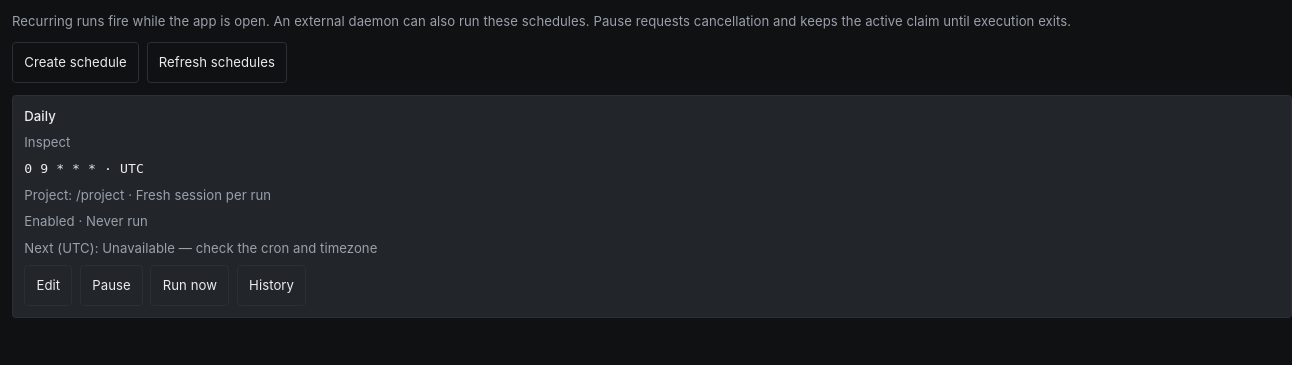
Test case: SchedulesPane workflow › keeps the row while pause is pending and refreshes after success
The image size is (1292, 365).
Click the button with aria-label "Pause Daily" at (112, 285), box x1=80 y1=265 x2=143 y2=306
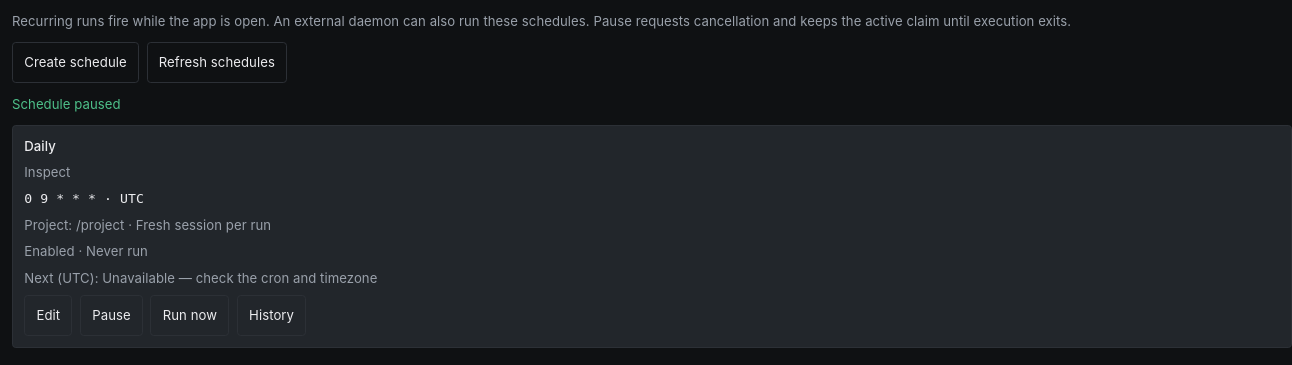
Expected: the text "Schedule paused" is shown, x1=12 y1=96 x2=121 y2=112
